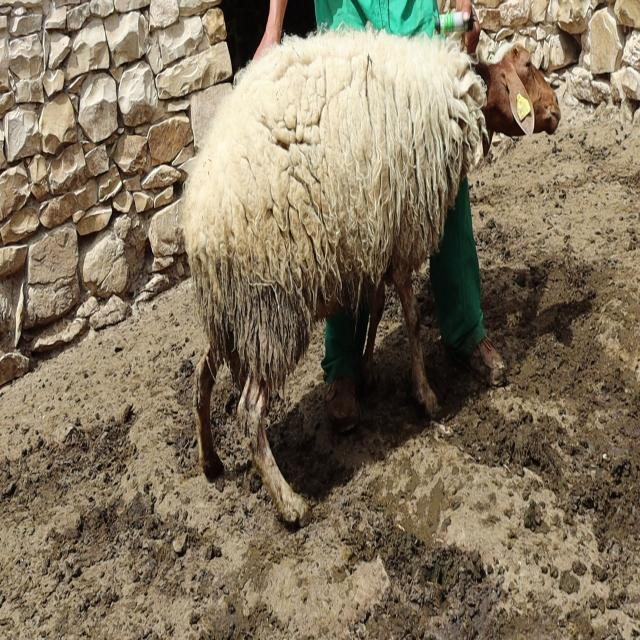Score_3: (178, 17, 560, 524)
